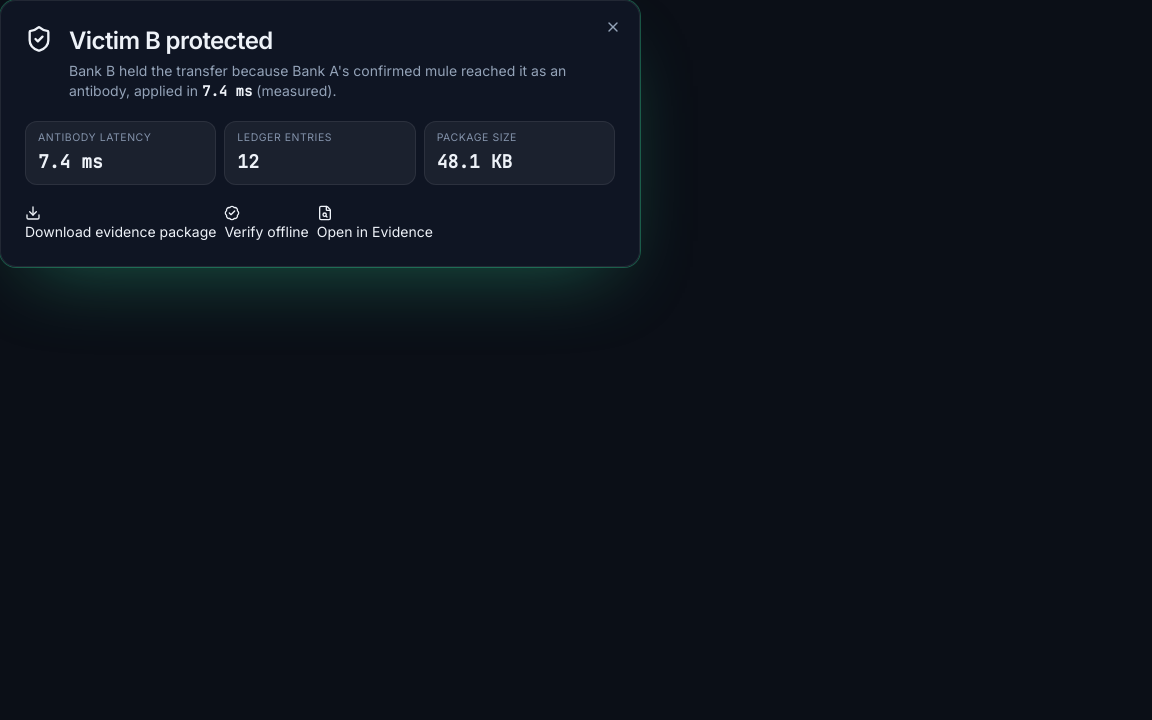
it: FinaleCard › shows the real verifier result and its own lines
Click the button with test id "verify-offline".
click(267, 223)  # box [224, 205, 309, 242]
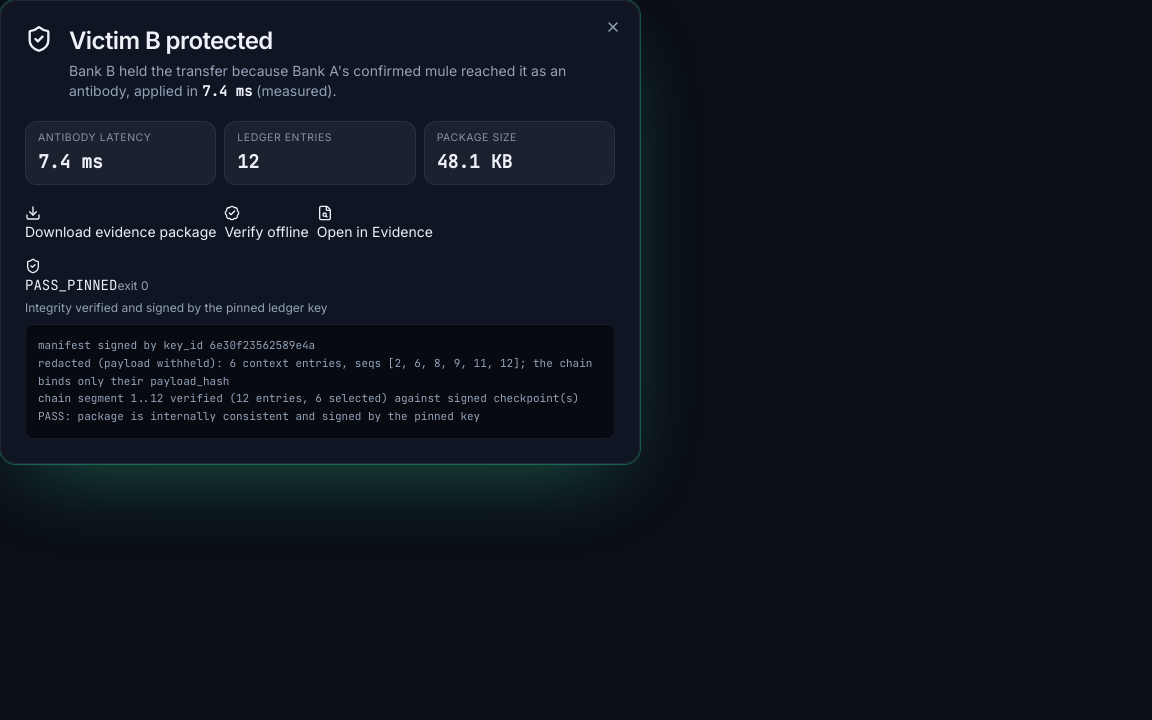
Expected: the text with test id "verify-status" reads "PASS_PINNED", [25, 276, 117, 294]
Expected: the text named "Verifier output" shows "PASS: package is internally consistent and signed by the pinned key", [38, 338, 599, 423]
Expected: the text named "Verifier output" shows "redacted (payload withheld)", [38, 338, 599, 423]
